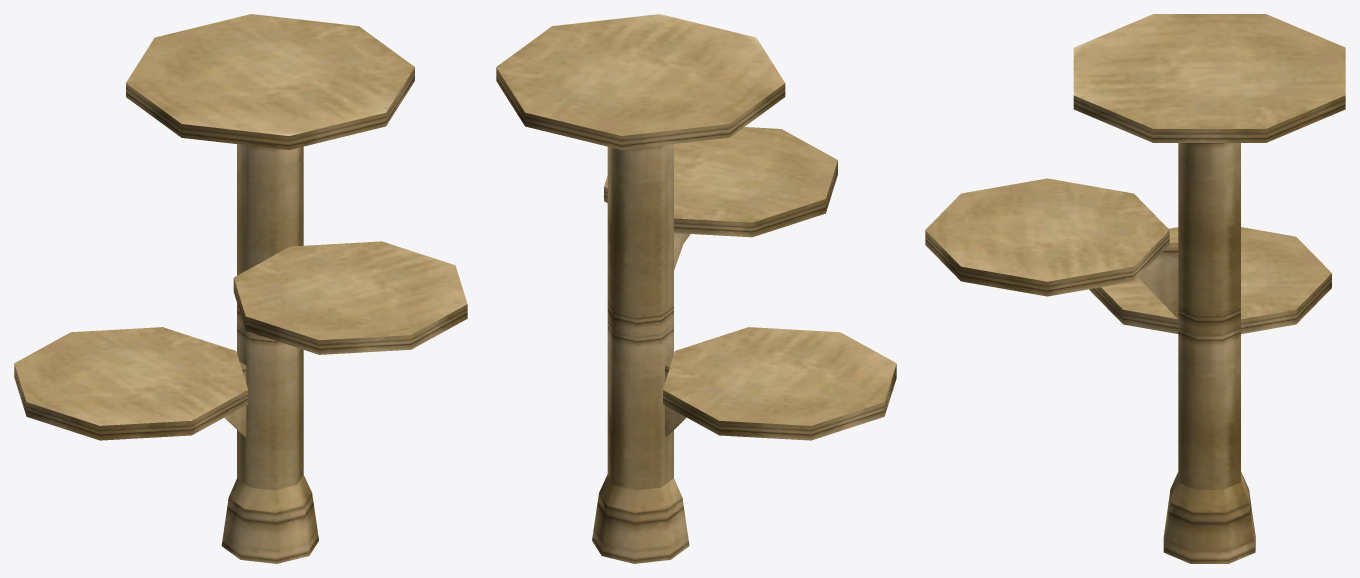
The model's file is frn_tato_table_small_s02_l0.fbx.
3 views of the same model, side by side, from view 1: azimuth 30°, elevation 25°; view 2: azimuth 150°, elevation 25°; view 3: azimuth 270°, elevation 25° (orthographic).
Parts seen in each view (by area): view 1: mesh_node; view 2: mesh_node; view 3: mesh_node.
Part boxes in pixels (x1,y1,x2,y2): mesh_node: [14, 14, 467, 563]; mesh_node: [496, 14, 896, 563]; mesh_node: [925, 14, 1345, 563].
Bounding box in the file's own units: 0.6043 × 0.75 × 0.6043.
Materials: 1 (1 with a texture image).
